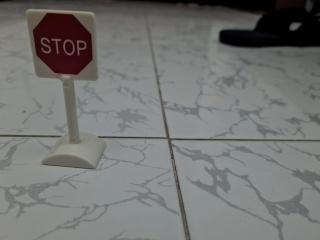stop: (21, 3, 103, 86)
